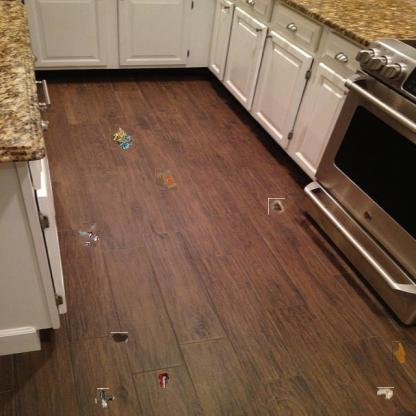dirty: (111, 124, 136, 150), (155, 168, 177, 190), (81, 226, 99, 245), (268, 198, 285, 215), (95, 391, 112, 407), (157, 371, 171, 389), (376, 387, 394, 400)
liquid: (392, 341, 406, 363), (110, 332, 128, 343)
